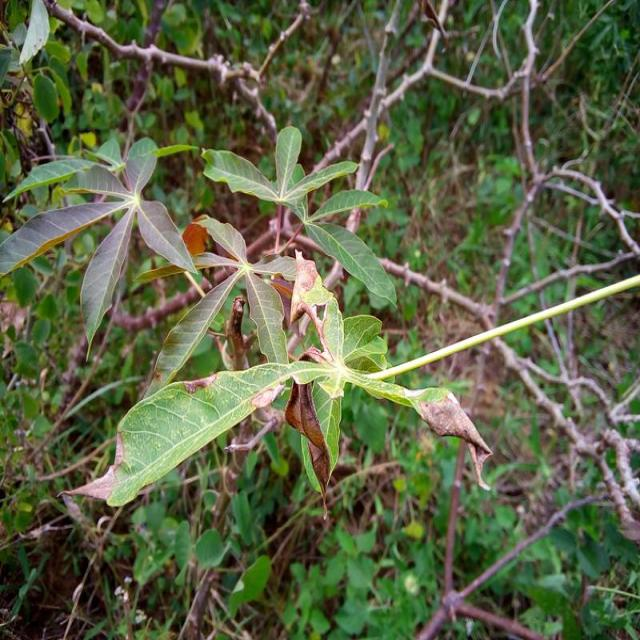cassava leaf: (2, 134, 202, 360), (106, 358, 334, 508)
